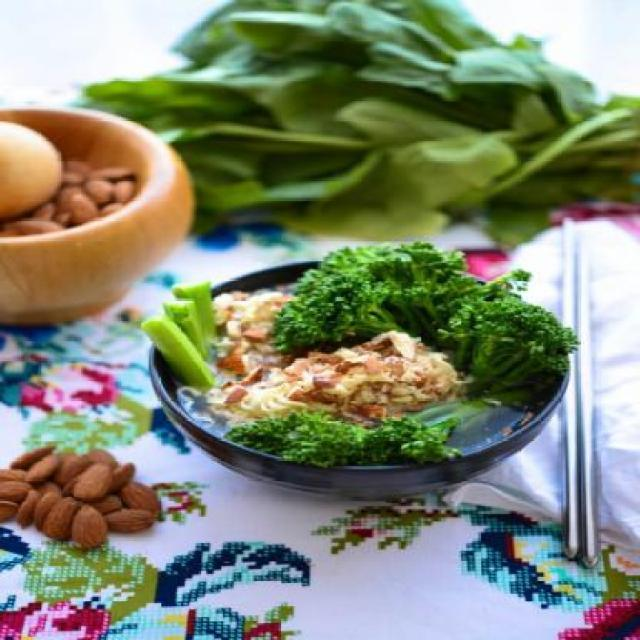Broccoli: (266, 238, 576, 396), (232, 397, 500, 472)
